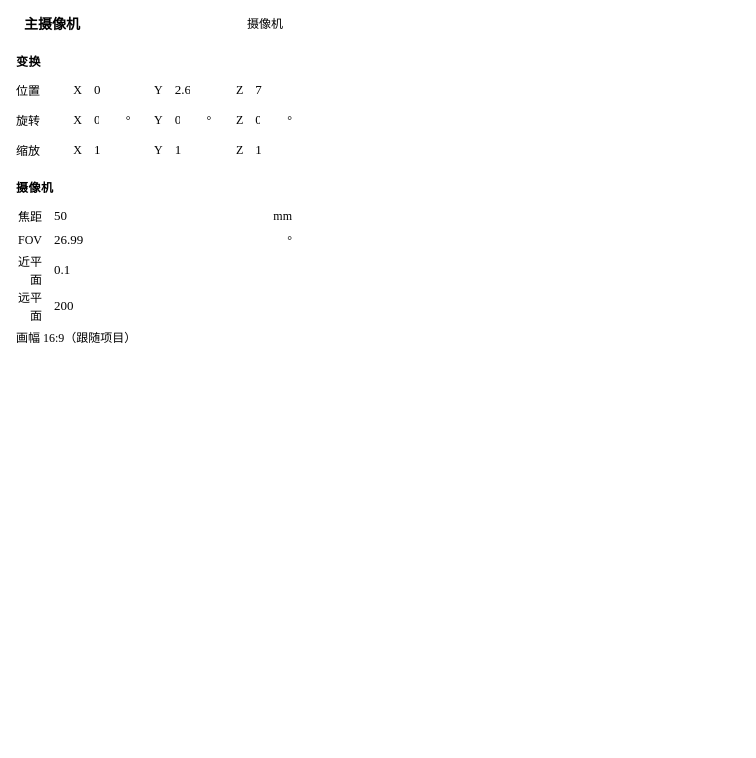
Test: R8-12 摄像机输入边界（属性面板 UI 层） › FOV 输入 200：拒绝并提示，项目数据不变
Step 1. Replace the text in the number field with test id "inspector-fov" with "200" → (165, 240), box [48, 228, 281, 252]
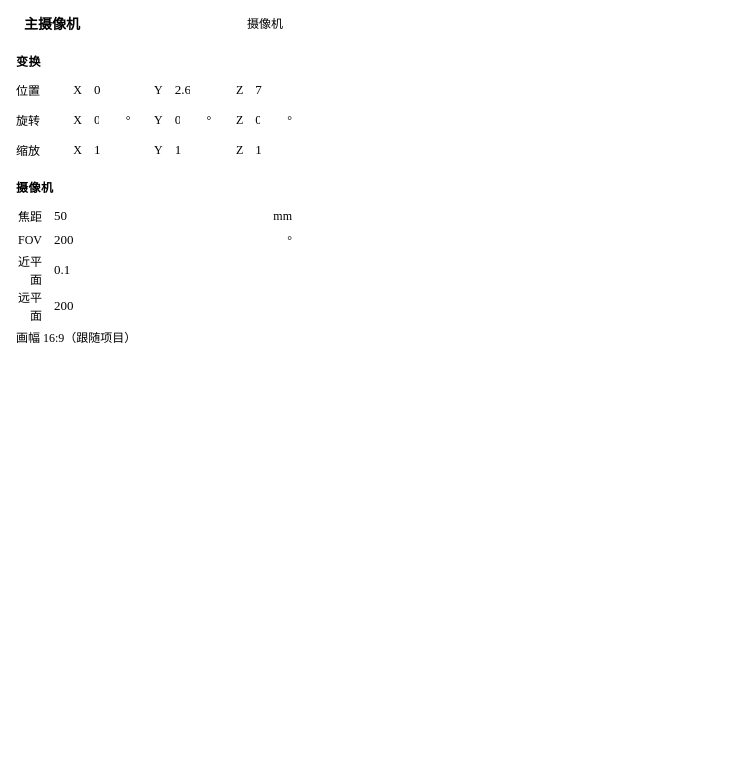
Step 2. Leave the number field with test id "inspector-fov", box [48, 228, 281, 252]
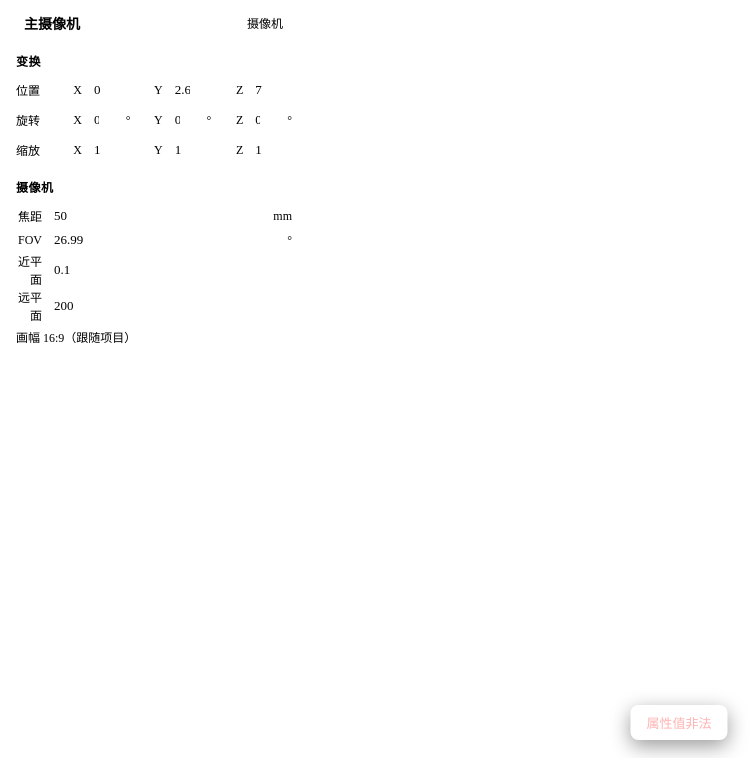
Expected: the message with test id "lumora-toasts" reads "属性值非法", [646, 716, 712, 731]
